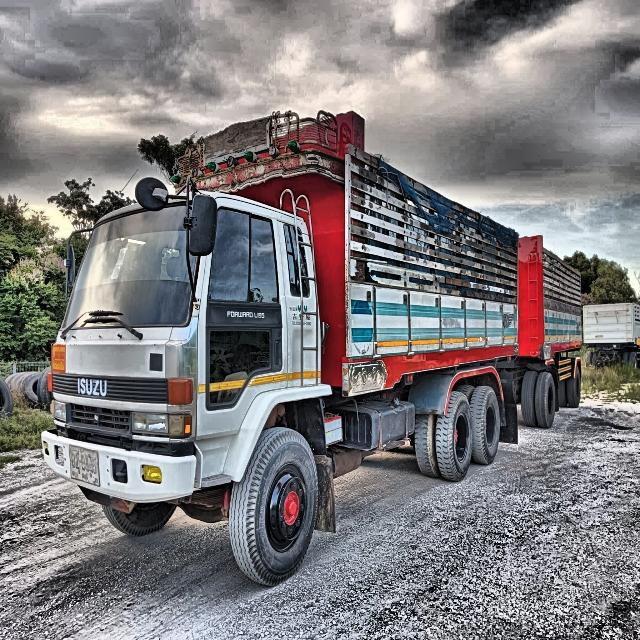trailer: (37, 101, 590, 592)
